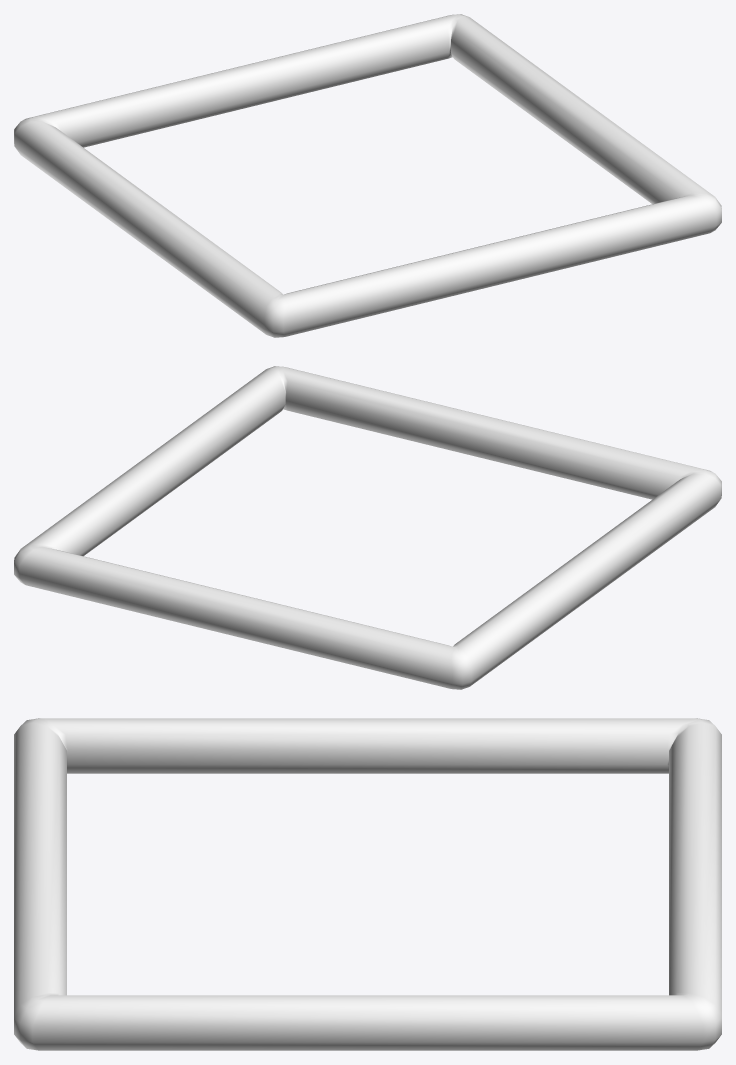
Rendered from Storage Box.fbx.
3 renders of one model, top to bottom at view 1: azimuth 30°, elevation 25°; view 2: azimuth 150°, elevation 25°; view 3: azimuth 270°, elevation 25°, orthographic. The views are drawn at different scales.
Parts seen in each view (by area): view 1: Storage Box; view 2: Storage Box; view 3: Storage Box.
Part boxes in pixels (x1,y1,x2,y2): Storage Box: (14, 14, 721, 337); Storage Box: (14, 366, 721, 689); Storage Box: (14, 718, 721, 1050).
Bounding box in the file's own units: 2.26 × 0.1754 × 2.26.
